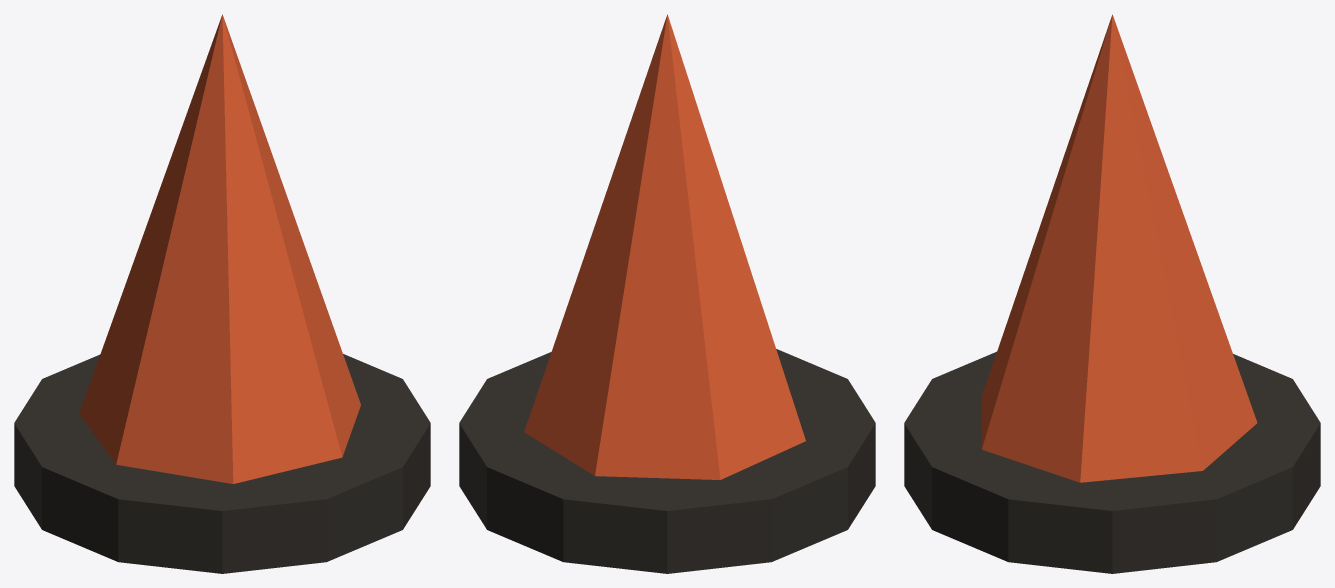
Rendered from furia_marcador.glb.
3 renders of one model, left to right at view 1: azimuth 30°, elevation 25°; view 2: azimuth 150°, elevation 25°; view 3: azimuth 270°, elevation 25°, orthographic.
Visible parts, largest first — view 1: furia_marcador; view 2: furia_marcador; view 3: furia_marcador.
Part boxes in pixels (<box>): furia_marcador: <box>14,14,430,573</box>; furia_marcador: <box>459,14,875,573</box>; furia_marcador: <box>904,14,1320,573</box>.
Bounding box in the file's own units: 1.2 × 1.5 × 1.2.
